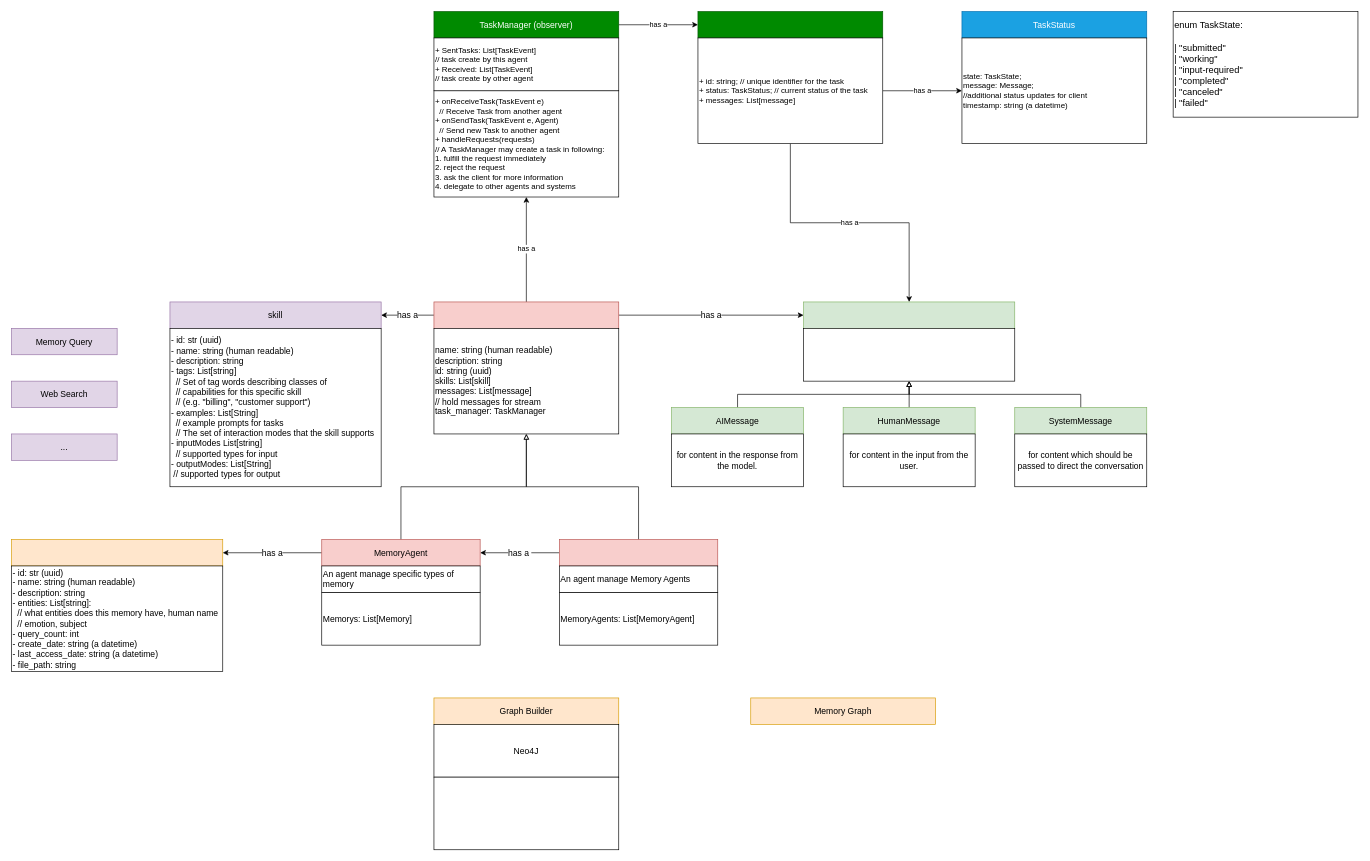
This 1370x861 diagram has some shape labels left out. Here are the shapes that lost their labels. From the top down, the centre of each, then its label:
(790,24): TaskEvent (subject)
(526,314): Agent
(909,314): Messages
(909,354): - id: str (uuid) - tokens: int (the number of tokens used in a message)
(117,552): Memory
(638,552): ManageAgent
(526,813): + AddNode + AddEdge + Query + Set + Delete
